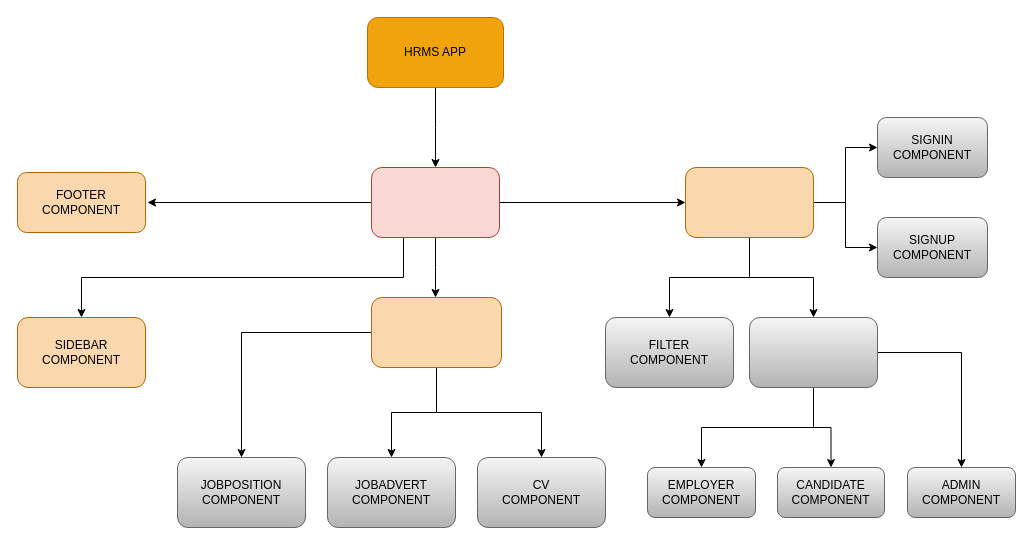
Image size: 1033x545. Some labels were removed from this diagram. The box of each missing label's shape, as (x1, y1, x2, y2) in pixels:
DASHBOARD COMPONENT: (370, 296, 502, 368)
LAYOUT COMPONENT: (370, 166, 500, 238)
NAVI COMPONENT: (684, 166, 814, 238)
USER AREA COMPONENT: (748, 316, 878, 388)
